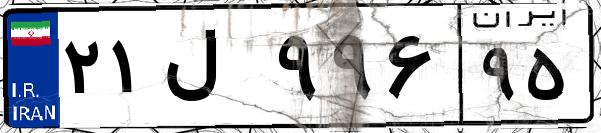1: (110, 28, 158, 98)
2: (57, 26, 110, 100)
5: (525, 38, 570, 115)
6: (385, 28, 445, 110)
9: (270, 28, 330, 110), (330, 28, 385, 110), (475, 38, 525, 113)
ل: (158, 20, 270, 120)
